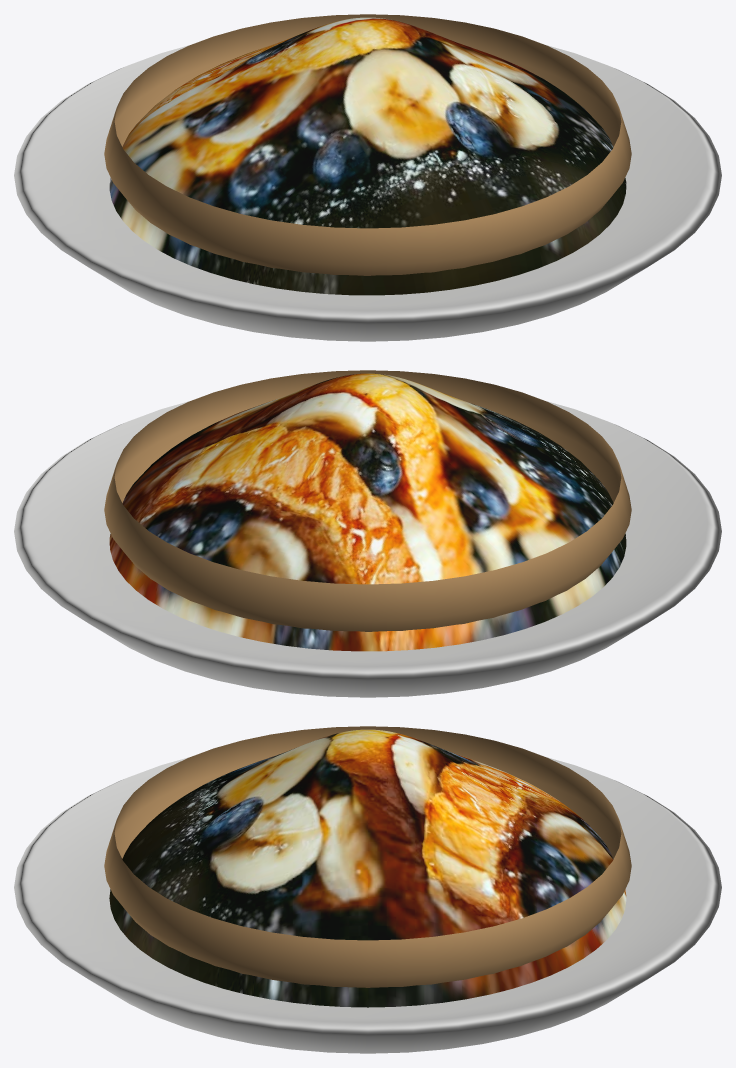
File: french-toast.glb
The picture shows the model from 3 angles, top to bottom: view 1: azimuth 30°, elevation 25°; view 2: azimuth 150°, elevation 25°; view 3: azimuth 270°, elevation 25°; orthographic projection.
Visible parts, largest first — view 1: french-toast; view 2: french-toast; view 3: french-toast.
Part boxes in pixels (bbox=[...]): french-toast: bbox=[14, 14, 721, 341]; french-toast: bbox=[14, 370, 721, 697]; french-toast: bbox=[14, 726, 721, 1053].
Size of the model in its own units: 0.23 by 0.0752 by 0.23.
2 materials, 1 textured.
